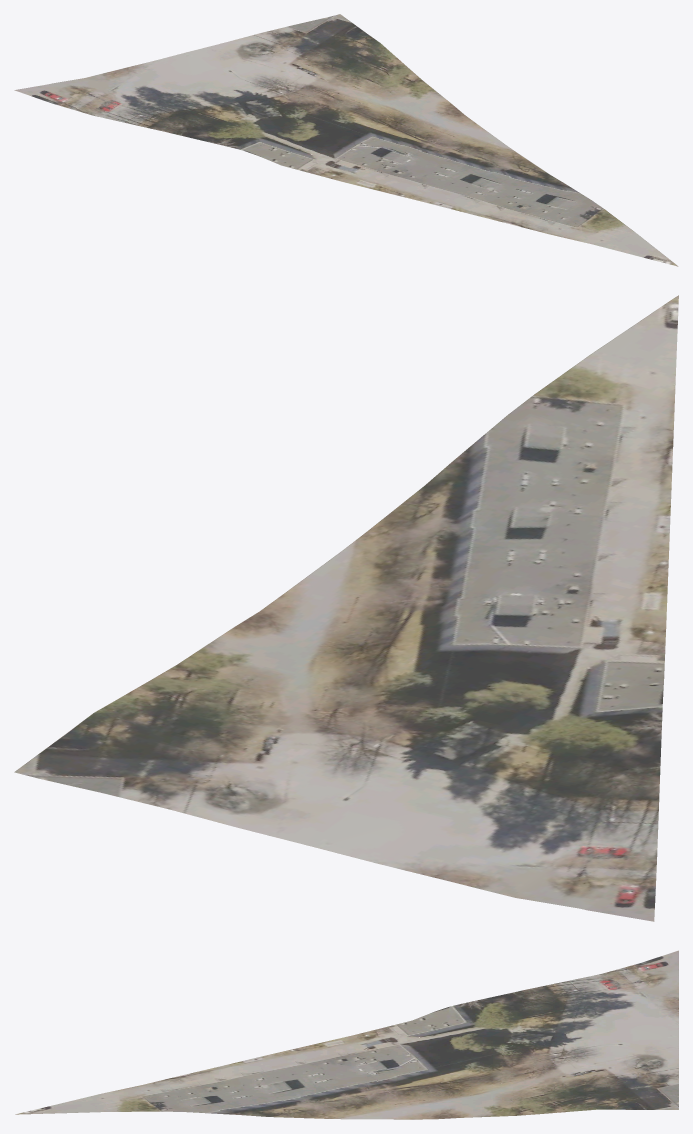
The model's file is CM_Terrain_24490868_6815698.fbx.
3 views of the same model, one above another, from view 1: azimuth 30°, elevation 25°; view 2: azimuth 150°, elevation 25°; view 3: azimuth 270°, elevation 25° (orthographic). The views are drawn at different scales.
Visible parts, largest first — view 1: CM_Terrain_24490868_6815698_LOD0; view 2: CM_Terrain_24490868_6815698_LOD0; view 3: CM_Terrain_24490868_6815698_LOD0.
Part boxes in pixels (x1=…): CM_Terrain_24490868_6815698_LOD0: x1=14, y1=14, x2=678, y2=266; CM_Terrain_24490868_6815698_LOD0: x1=14, y1=295, x2=678, y2=921; CM_Terrain_24490868_6815698_LOD0: x1=15, y1=950, x2=678, y2=1119.
Size of what is drawn, in the model's own units: 66.83 by 2.57 by 120.
